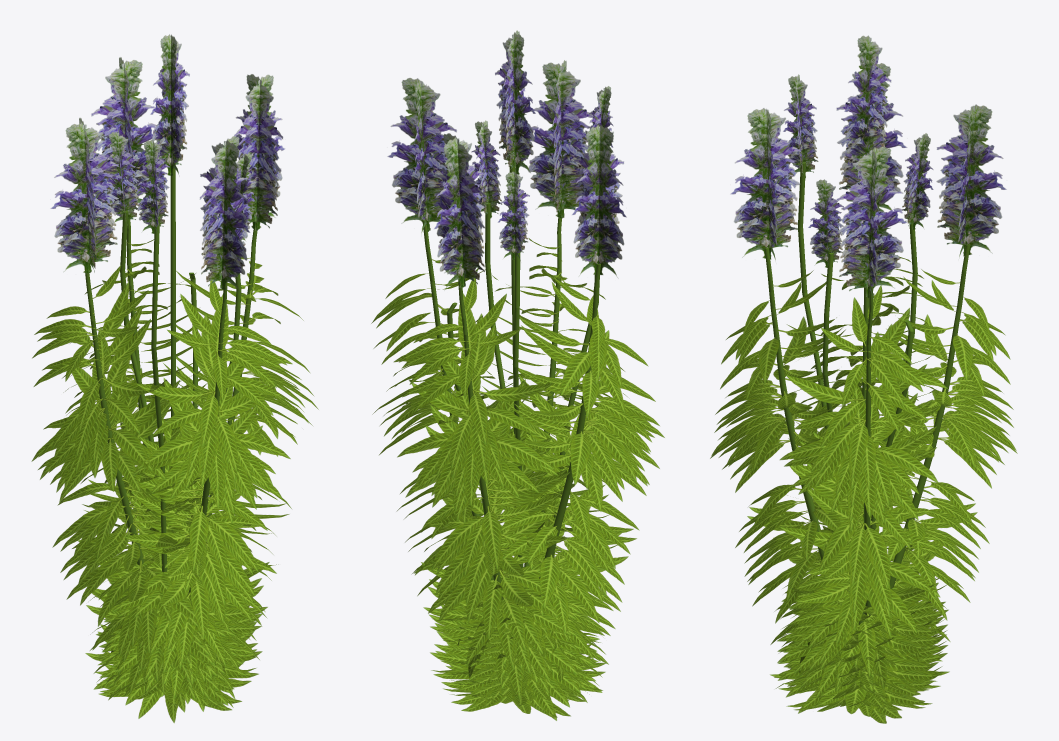
The model's file is lobeliaflower.glb.
3 views of the same model, side by side, from view 1: azimuth 30°, elevation 25°; view 2: azimuth 150°, elevation 25°; view 3: azimuth 270°, elevation 25° (orthographic).
Visible parts, largest first — view 1: cardinal flower; view 2: cardinal flower; view 3: cardinal flower.
Part boxes in pixels (box(x1,y1,x2,y2)): cardinal flower: box(31, 34, 318, 722); cardinal flower: box(371, 30, 664, 720); cardinal flower: box(710, 35, 1017, 723).
Size of the model in its own units: 2.08 by 4.44 by 2.09.
Materials: 4 (3 with a texture image).
